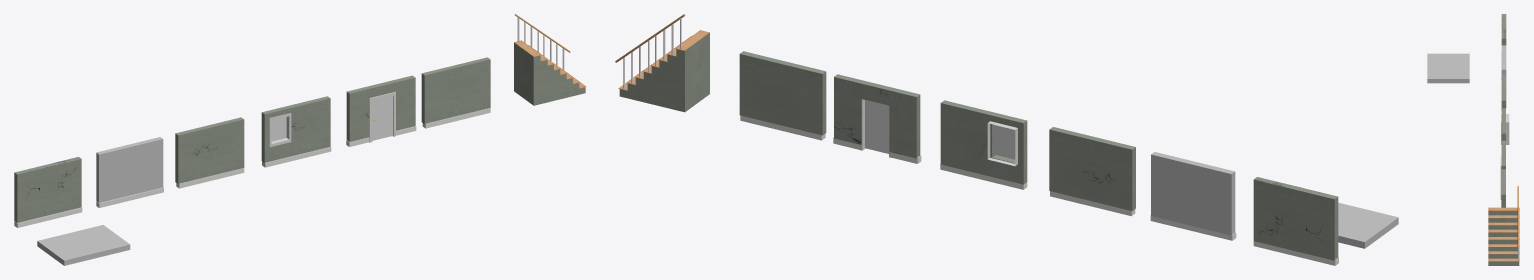
Rendered from modularAssetsP3.fbx.
3 renders of one model, left to right at view 1: azimuth 30°, elevation 25°; view 2: azimuth 150°, elevation 25°; view 3: azimuth 270°, elevation 25°, orthographic. The views are drawn at different scales.
Visible parts, largest first — view 1: Cube.016, Cube.004, Cube, Cube.002, Cube.007, Cube.011, Cube.017, Cube.003, Cube.014, Cube.013, Cube.009, Cube.001 (+5 smaller); view 2: Cube.016, Cube.004, Cube, Cube.002, Cube.007, Cube.011, Cube.017, Cube.003, Cube.014, Cube.010, Cube.008, Cube.006 (+3 smaller); view 3: Cube.003, Cube.017, Cube.002, Cube.016, Cube, Cube.004, Cube.007, Cube.009, Cube.011, Cube.025, Cube.018, Cube.019 (+7 smaller).
Part boxes in pixels (bbox=[...]): Cube.016: bbox=[421, 57, 490, 124]; Cube.004: bbox=[175, 117, 244, 184]; Cube: bbox=[14, 157, 81, 222]; Cube.002: bbox=[96, 137, 163, 202]; Cube.007: bbox=[261, 96, 330, 162]; Cube.011: bbox=[346, 75, 415, 141]; Cube.017: bbox=[514, 43, 585, 105]; Cube.003: bbox=[37, 225, 130, 265]; Cube.014: bbox=[372, 96, 392, 140]; Cube.013: bbox=[369, 92, 395, 142]; Cube.009: bbox=[269, 113, 291, 147]; Cube.001: bbox=[14, 207, 82, 227]; Cube.016: bbox=[739, 51, 826, 135]; Cube.004: bbox=[1049, 127, 1135, 210]; Cube: bbox=[1253, 177, 1338, 260]; Cube.002: bbox=[1151, 152, 1235, 235]; Cube.007: bbox=[940, 100, 1027, 184]; Cube.011: bbox=[834, 74, 920, 158]; Cube.017: bbox=[619, 33, 709, 112]; Cube.003: bbox=[1338, 202, 1398, 248]; Cube.014: bbox=[865, 100, 888, 153]; Cube.010: bbox=[993, 125, 1015, 159]; Cube.008: bbox=[940, 164, 1027, 189]; Cube.006: bbox=[1050, 191, 1135, 216]; Cube.003: bbox=[1427, 53, 1469, 83]; Cube.017: bbox=[1488, 211, 1519, 265]; Cube.002: bbox=[1501, 45, 1506, 107]; Cube.016: bbox=[1501, 169, 1505, 207]; Cube: bbox=[1501, 14, 1506, 45]; Cube.004: bbox=[1501, 75, 1505, 108]; Cube.007: bbox=[1501, 108, 1505, 140]; Cube.009: bbox=[1501, 114, 1509, 144]; Cube.011: bbox=[1501, 140, 1505, 169]; Cube.025: bbox=[1488, 258, 1519, 261]; Cube.018: bbox=[1488, 207, 1519, 210]; Cube.019: bbox=[1488, 215, 1519, 218].
Bounding box in the file's own units: 22150 × 3189 × 3999.
